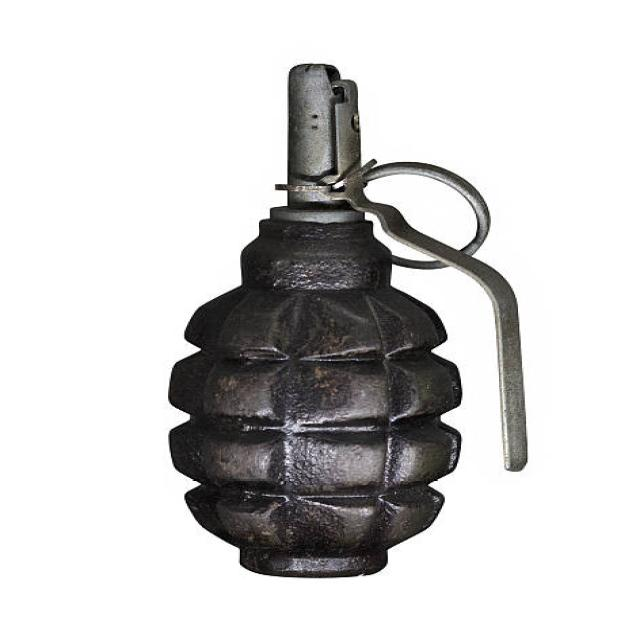grenade: (155, 56, 540, 593)
